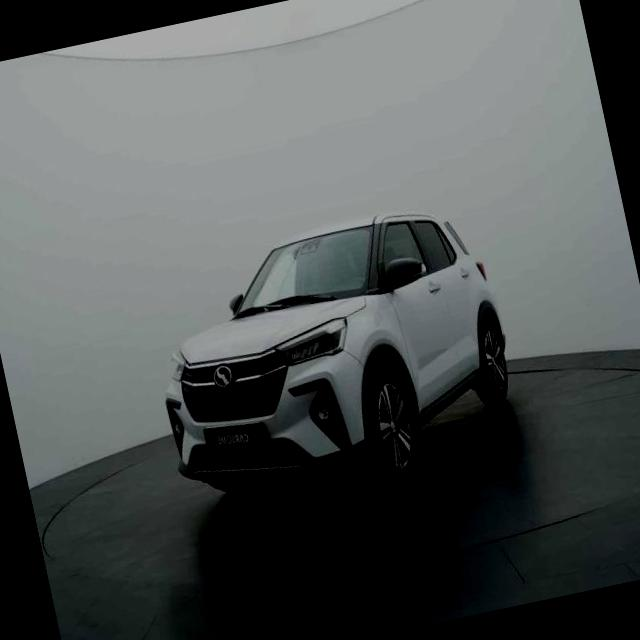PeroduaAtiva: (133, 192, 530, 520)
